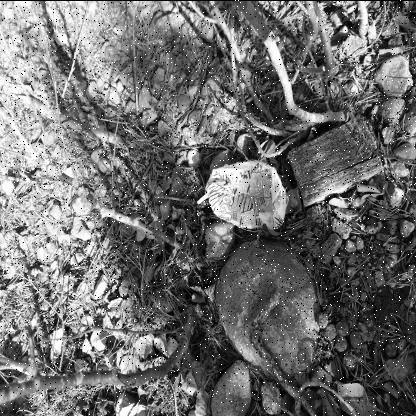cardboard: (196, 158, 290, 230)
